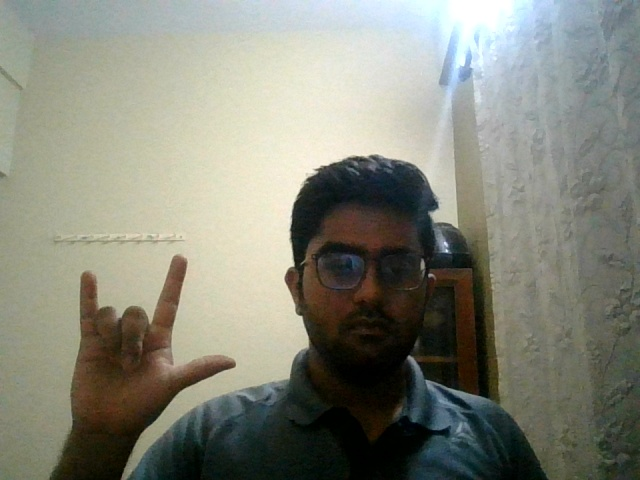I Love You: (53, 243, 240, 456)
